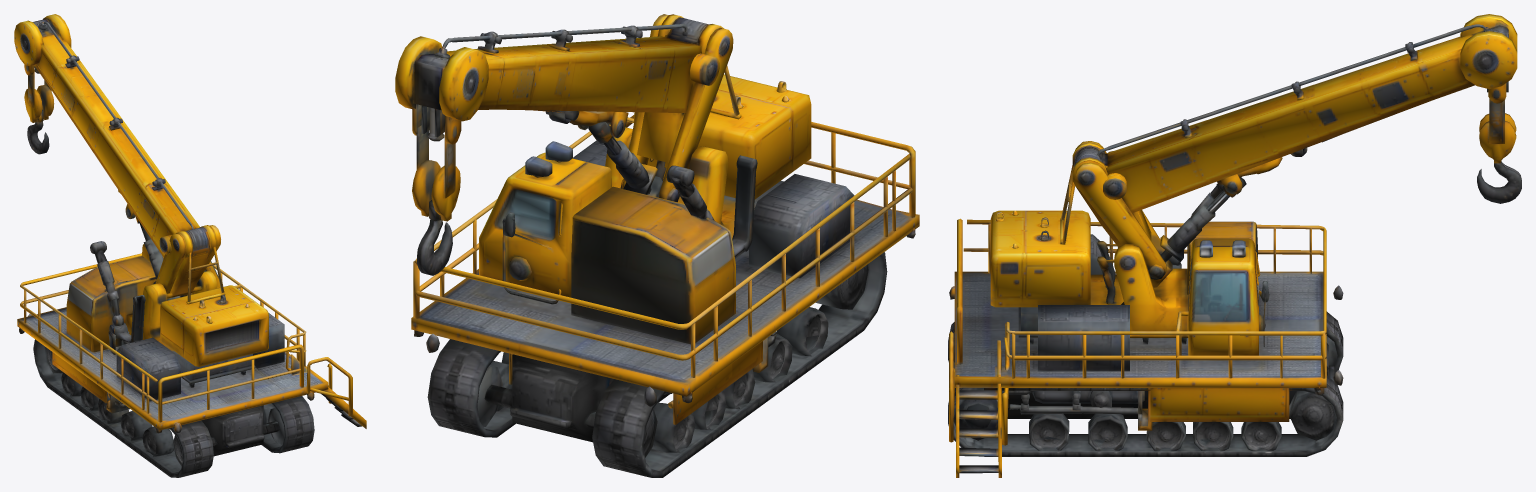
File: crane.glb
3 renders of one model, left to right at view 1: azimuth 30°, elevation 25°; view 2: azimuth 150°, elevation 25°; view 3: azimuth 270°, elevation 25°, orthographic. The views are drawn at different scales.
Parts seen in each view (by area): view 1: tripo_node_f336a654-20c7-4872-83cb-fd994d7d741d; view 2: tripo_node_f336a654-20c7-4872-83cb-fd994d7d741d; view 3: tripo_node_f336a654-20c7-4872-83cb-fd994d7d741d.
Part boxes in pixels (x1,y1,x2,y2): tripo_node_f336a654-20c7-4872-83cb-fd994d7d741d: (14, 14, 366, 477); tripo_node_f336a654-20c7-4872-83cb-fd994d7d741d: (395, 14, 919, 477); tripo_node_f336a654-20c7-4872-83cb-fd994d7d741d: (948, 14, 1521, 477).
Bounding box in the file's own units: 0.5449 × 0.752 × 0.998.
1 material, 1 textured.
